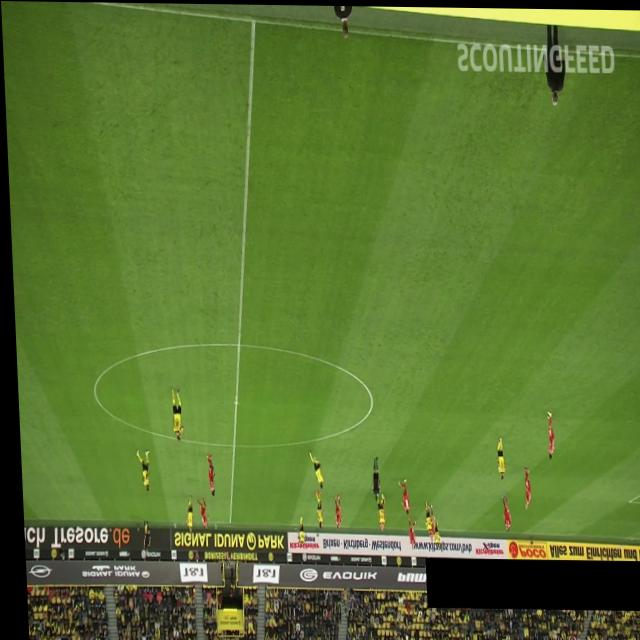player: (166, 386, 180, 440), (131, 447, 146, 492), (304, 449, 319, 487), (490, 434, 501, 478), (191, 496, 205, 528), (393, 477, 405, 514), (370, 491, 381, 529), (542, 408, 550, 458), (517, 464, 526, 508), (179, 493, 189, 532), (328, 492, 339, 527), (201, 452, 210, 494), (310, 489, 319, 528), (496, 492, 505, 530), (401, 515, 411, 547), (422, 502, 430, 540), (291, 514, 300, 544), (427, 516, 435, 546), (419, 500, 426, 534)
referee: (365, 455, 376, 500), (136, 519, 145, 551)
